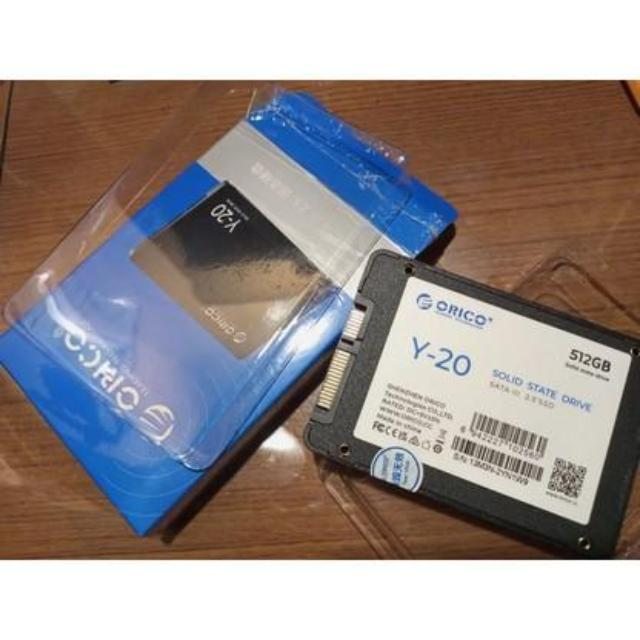DISK: (302, 242, 640, 558)
